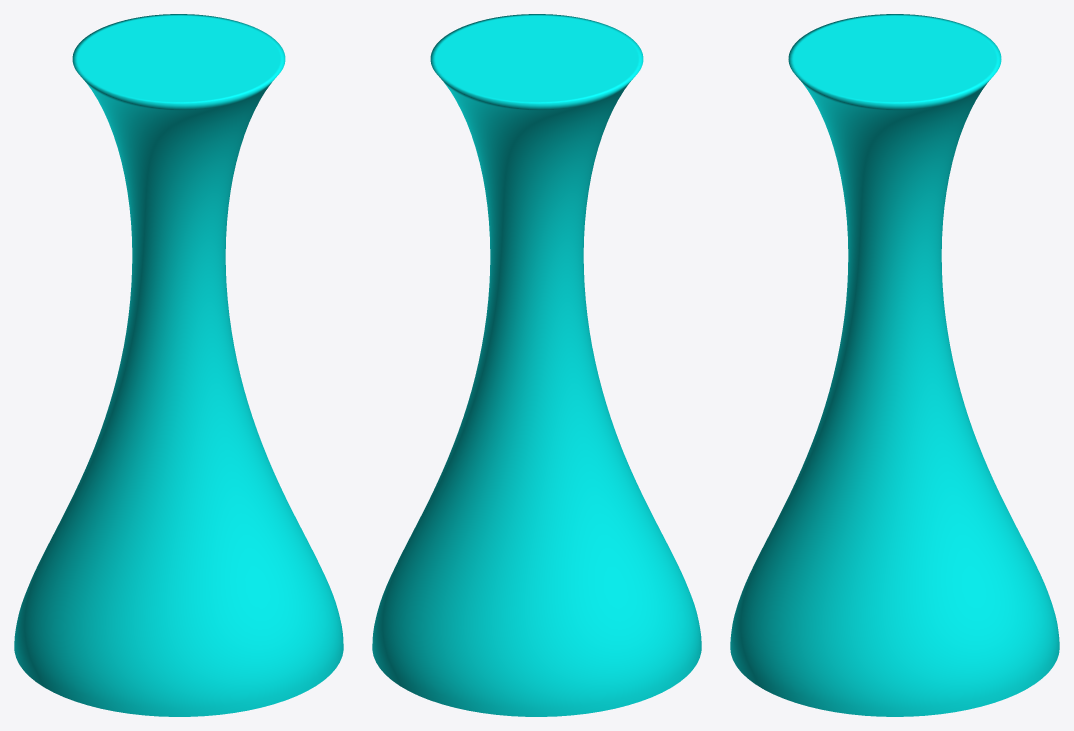
File: Pedestal.fbx
The picture shows the model from 3 angles, left to right: view 1: azimuth 30°, elevation 25°; view 2: azimuth 150°, elevation 25°; view 3: azimuth 270°, elevation 25°; orthographic projection.
Visible parts, largest first — view 1: NurbsPath; view 2: NurbsPath; view 3: NurbsPath.
Part boxes in pixels (x1,y1,x2,y2): NurbsPath: (14,14,343,716); NurbsPath: (372,14,701,716); NurbsPath: (730,14,1059,716).
Size of the model in its own units: 300 by 591 by 300.
